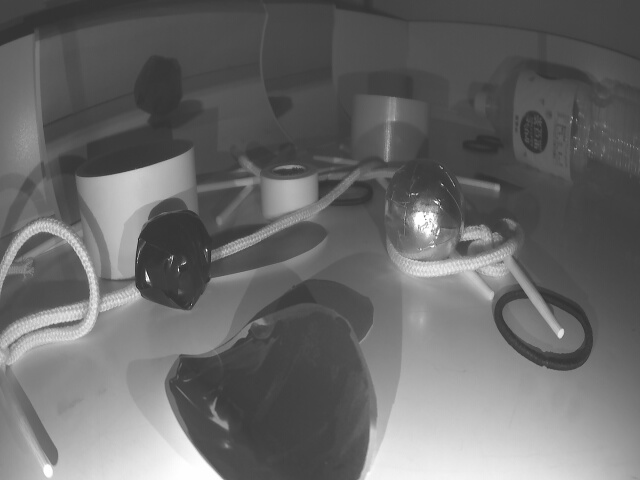Dead: (132, 214, 215, 310)
Live: (389, 159, 461, 261)
